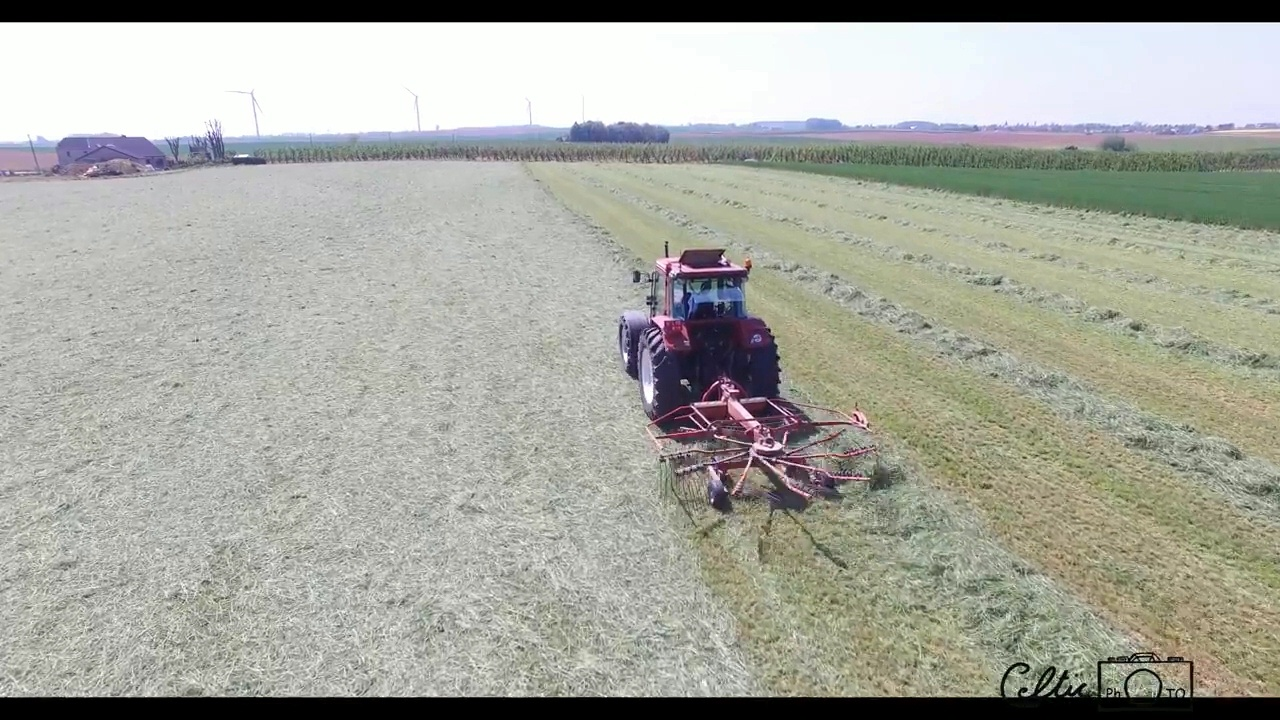traktor: (611, 236, 790, 417)
